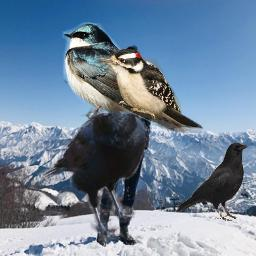Crow: (32, 85, 150, 246), (175, 141, 249, 222)
Swallow: (62, 22, 204, 133)
Woodpecker: (98, 49, 182, 123)
